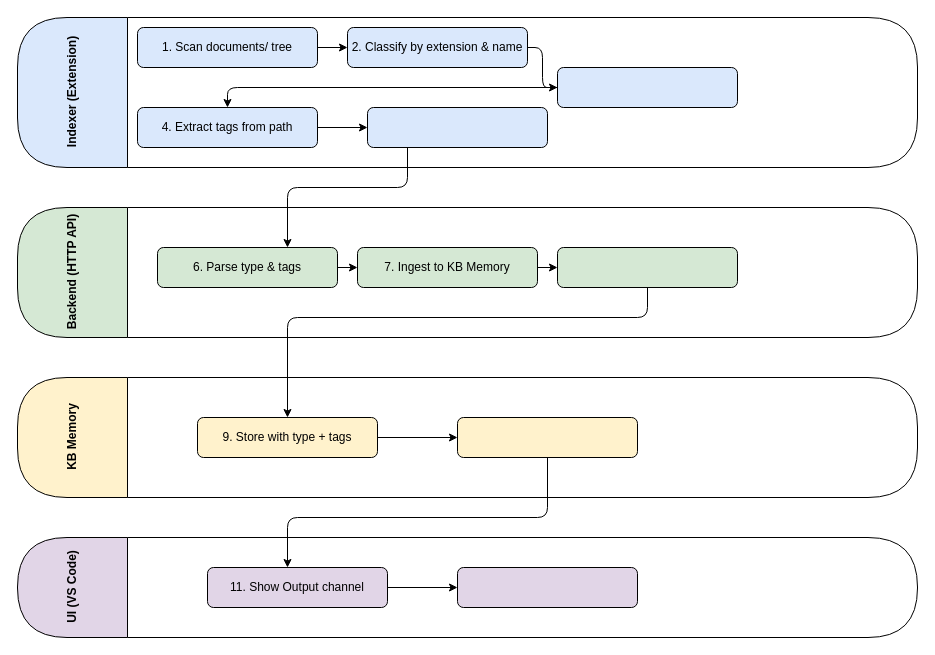
Some shapes in this 935 by 655 pixel diagram are drawn without their labels. Each missing label, with the centre of its shape:
10. Verify entry exists: pixel 547 437
12. Show toast notification: pixel 547 587
3. Derive type from path: pixel 647 87
5. Send to ingest API: pixel 457 127
8. Return JSON response: pixel 647 267
